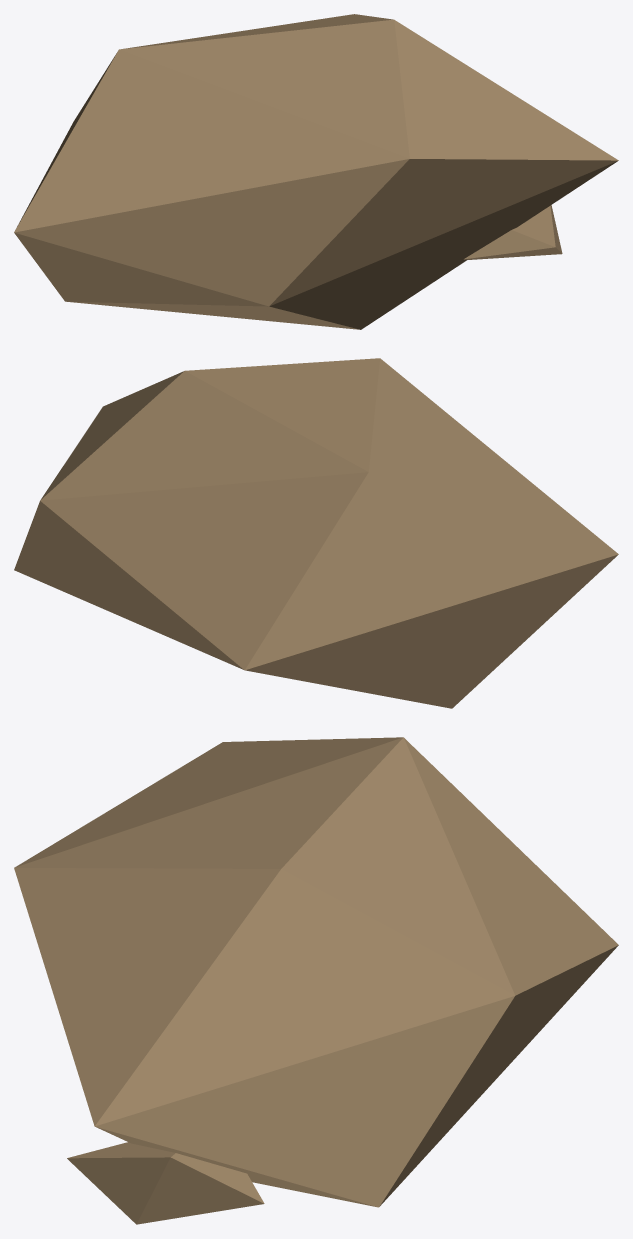
Rendered from rock_05.glb.
The picture shows the model from 3 angles, top to bottom: view 1: azimuth 30°, elevation 25°; view 2: azimuth 150°, elevation 25°; view 3: azimuth 270°, elevation 25°; orthographic projection. The views are drawn at different scales.
Parts seen in each view (by area): view 1: 石头_05; view 2: 石头_05; view 3: 石头_05.
Part boxes in pixels (x1,y1,x2,y2): 石头_05: [14, 14, 618, 329]; 石头_05: [14, 358, 618, 708]; 石头_05: [14, 737, 618, 1224].
Size of the model in its own units: 2.62 by 1.2 by 1.92.
